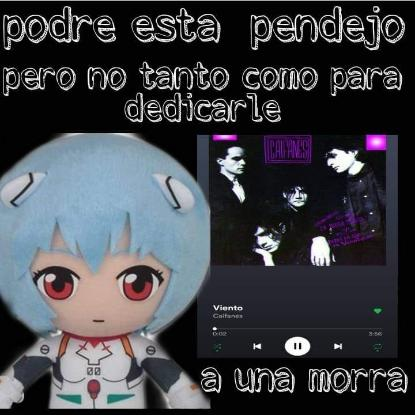rei-plush: (0, 134, 225, 414)
